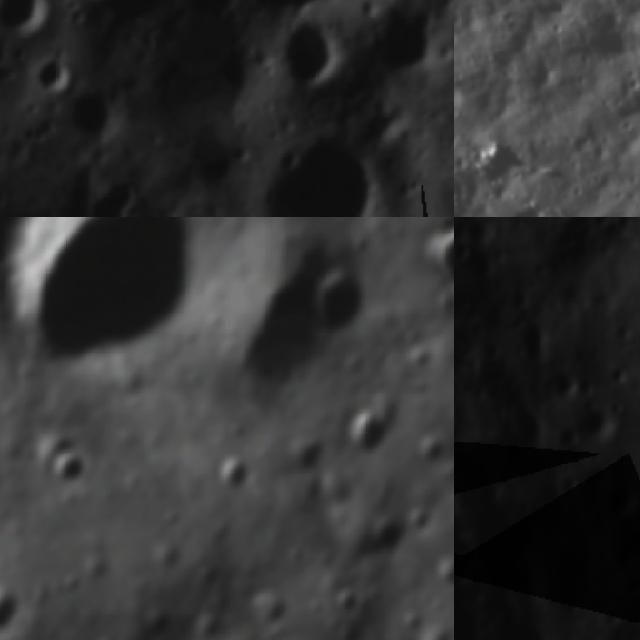crater: (0, 217, 230, 403), (226, 219, 351, 402), (258, 122, 380, 217), (365, 0, 445, 83), (304, 256, 382, 340), (272, 14, 352, 90), (343, 397, 408, 470), (63, 76, 125, 138), (73, 166, 146, 217), (239, 576, 298, 637), (153, 0, 254, 35), (43, 441, 103, 497), (416, 217, 454, 301), (208, 448, 258, 508), (281, 425, 330, 485), (359, 509, 413, 561), (454, 465, 505, 519), (0, 0, 65, 37), (38, 40, 79, 92), (512, 402, 550, 456), (514, 318, 556, 366), (409, 424, 451, 471), (0, 579, 32, 640), (137, 598, 178, 640), (600, 477, 640, 515), (457, 217, 498, 250), (504, 276, 542, 310), (550, 469, 583, 502), (335, 586, 367, 620), (502, 198, 555, 217), (603, 363, 636, 390), (454, 69, 466, 123), (605, 396, 627, 418), (84, 632, 127, 640), (585, 207, 618, 217)
